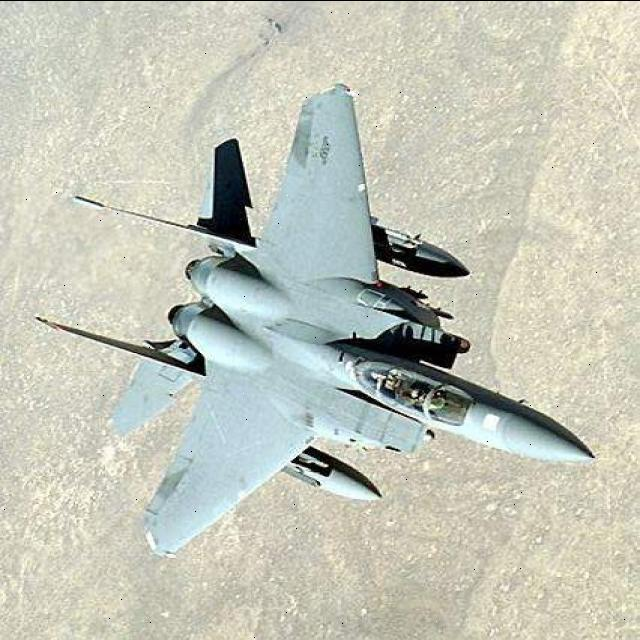F15: (24, 60, 616, 583)
